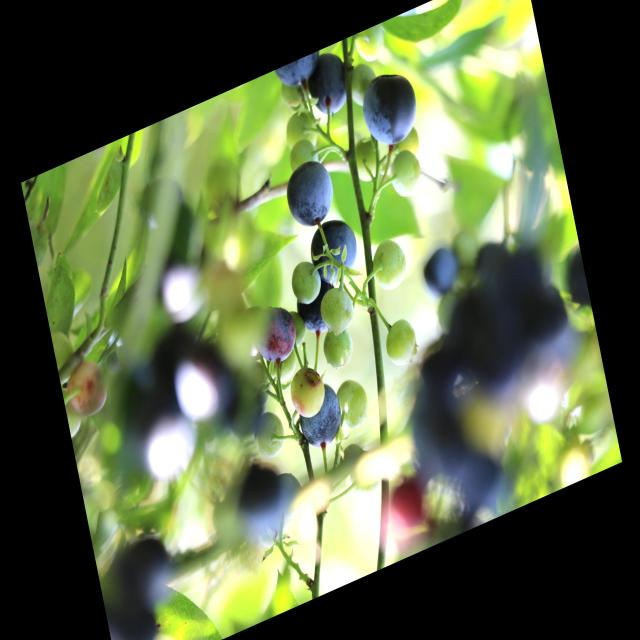blueberry: (359, 62, 425, 154), (283, 152, 340, 242), (307, 212, 363, 292), (296, 377, 348, 457), (304, 48, 354, 124), (250, 297, 300, 369), (418, 241, 466, 309), (296, 277, 340, 339), (273, 50, 325, 100)
blueberry-unripe: (316, 274, 361, 342), (366, 230, 409, 298), (247, 406, 290, 468), (382, 308, 423, 373), (334, 370, 374, 435), (288, 361, 328, 422), (388, 143, 426, 201), (287, 256, 325, 310), (322, 322, 358, 376), (282, 106, 322, 152), (349, 451, 384, 502), (349, 138, 384, 188), (285, 133, 321, 179), (352, 23, 388, 69), (348, 57, 380, 105), (280, 78, 307, 118)
